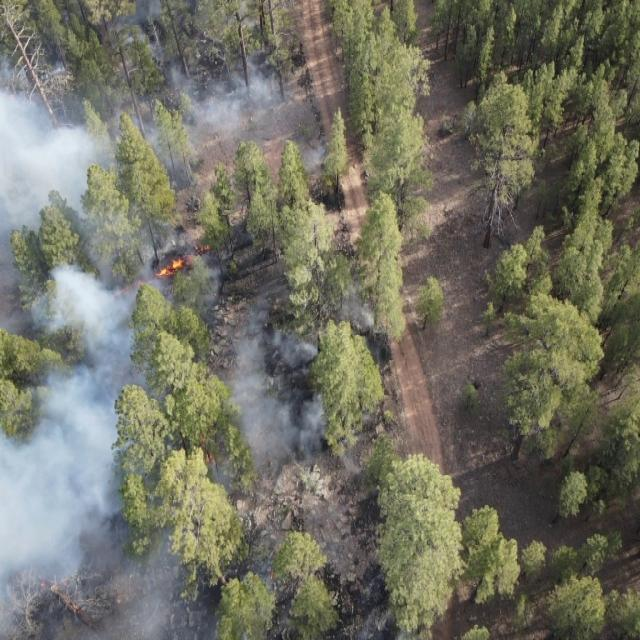fire: (104, 239, 214, 305), (201, 434, 224, 467), (36, 578, 49, 591), (267, 566, 277, 582)
smoke: (0, 192, 233, 630), (0, 0, 282, 192), (228, 279, 371, 487), (294, 136, 328, 184)
